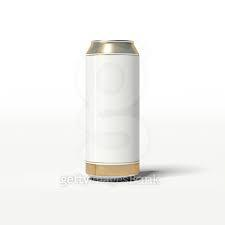beer: (84, 39, 142, 180)
